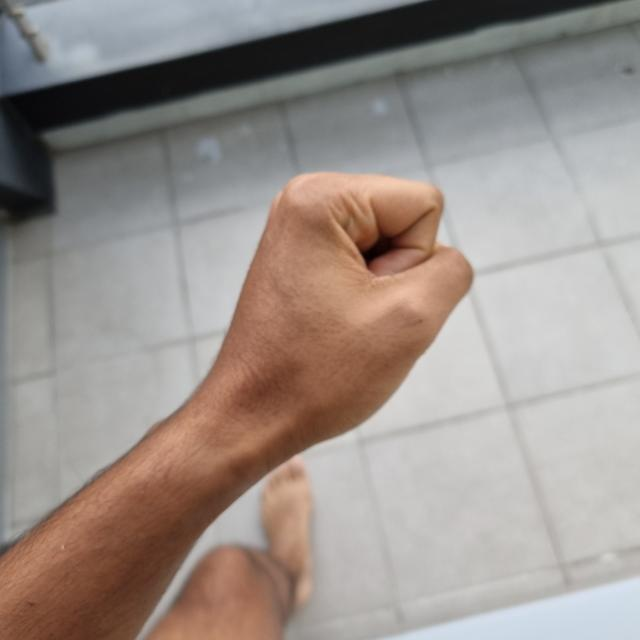Rock: (213, 171, 472, 586)
